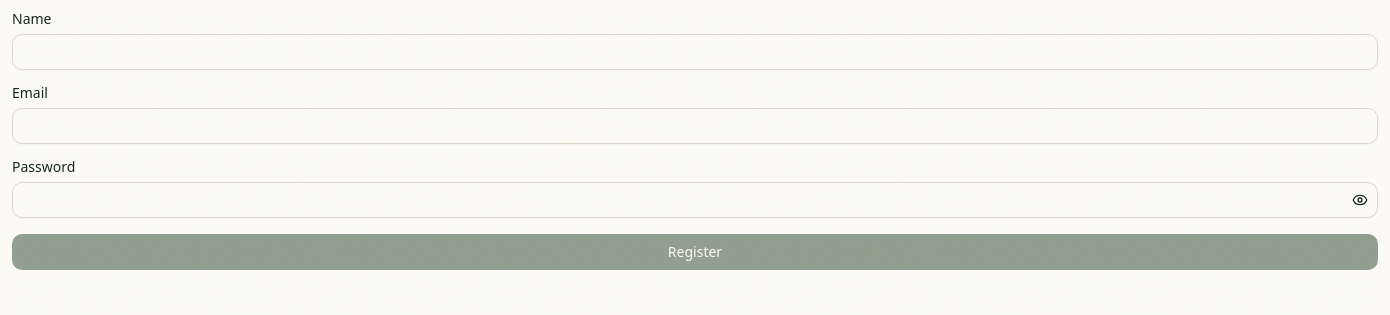
Test: RegisterForm › validates password character classes
This screenshot has width=1390, height=315.
In the field labelled "Name": (695, 52) [12,34,1378,70], type "John Doe"
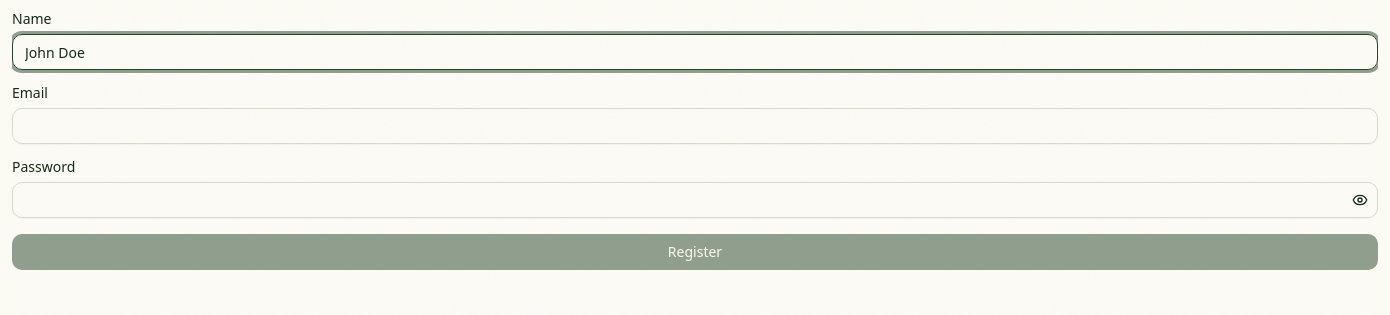
In the field labelled "Email": (695, 126) [12,108,1378,144], type "john@example.com"
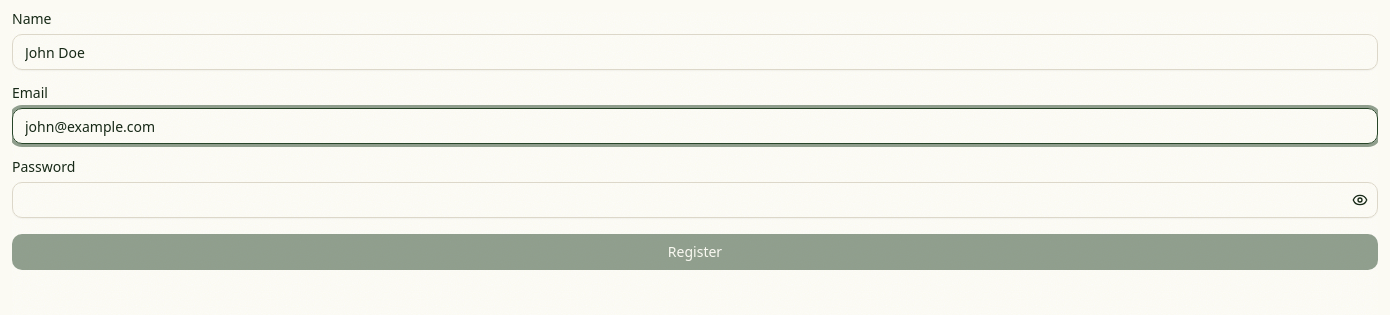
In the password field labelled "Password": (695, 200) [12,182,1378,218], type "password123"
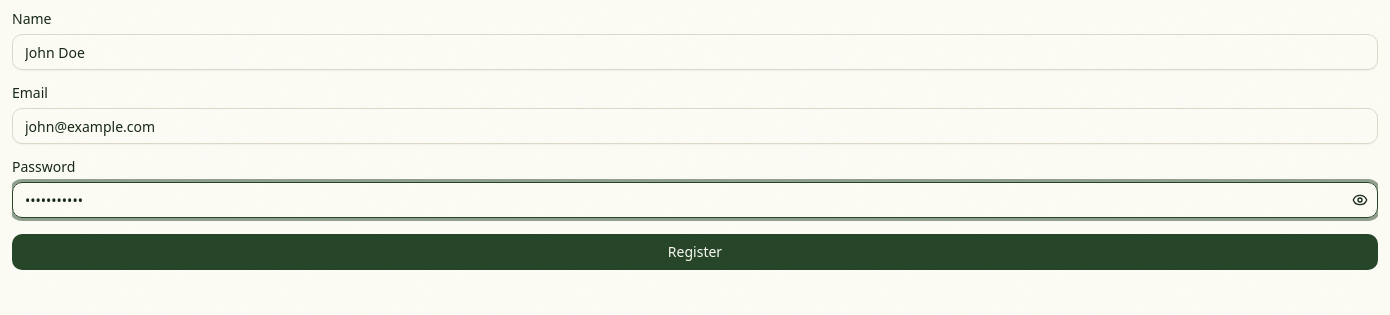
Submit the form with test id "register-form"
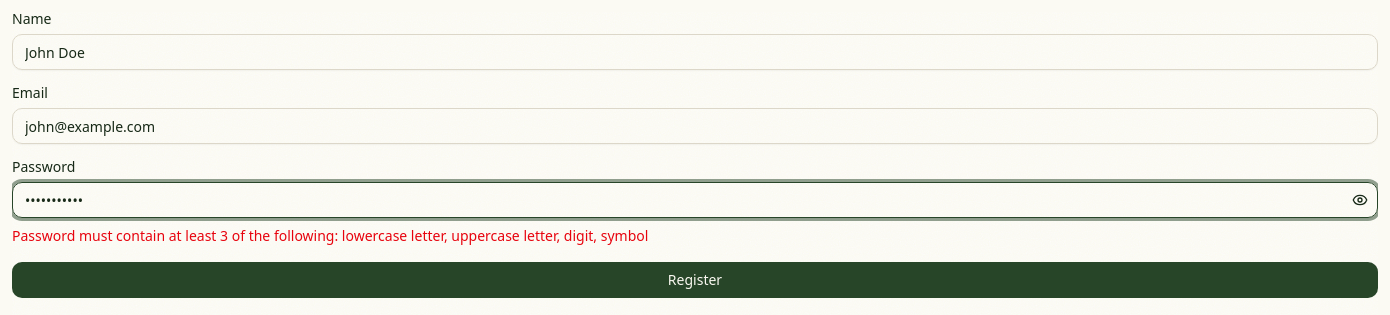
Check: the text "Password must contain at least 3 of the following: lowercase letter, uppercase letter, digit, symbol" is shown, box [12,226,648,245]
